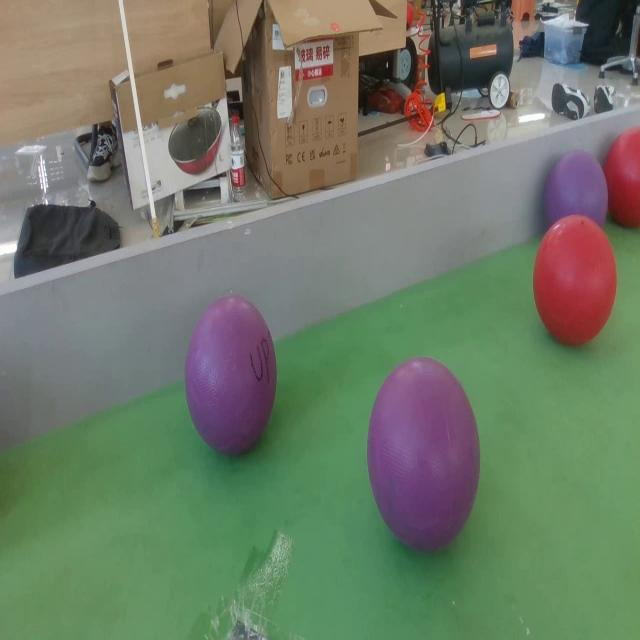invalid: (364, 348, 478, 546), (181, 290, 277, 449), (544, 148, 609, 245)
red: (532, 215, 618, 348), (605, 128, 640, 226)
